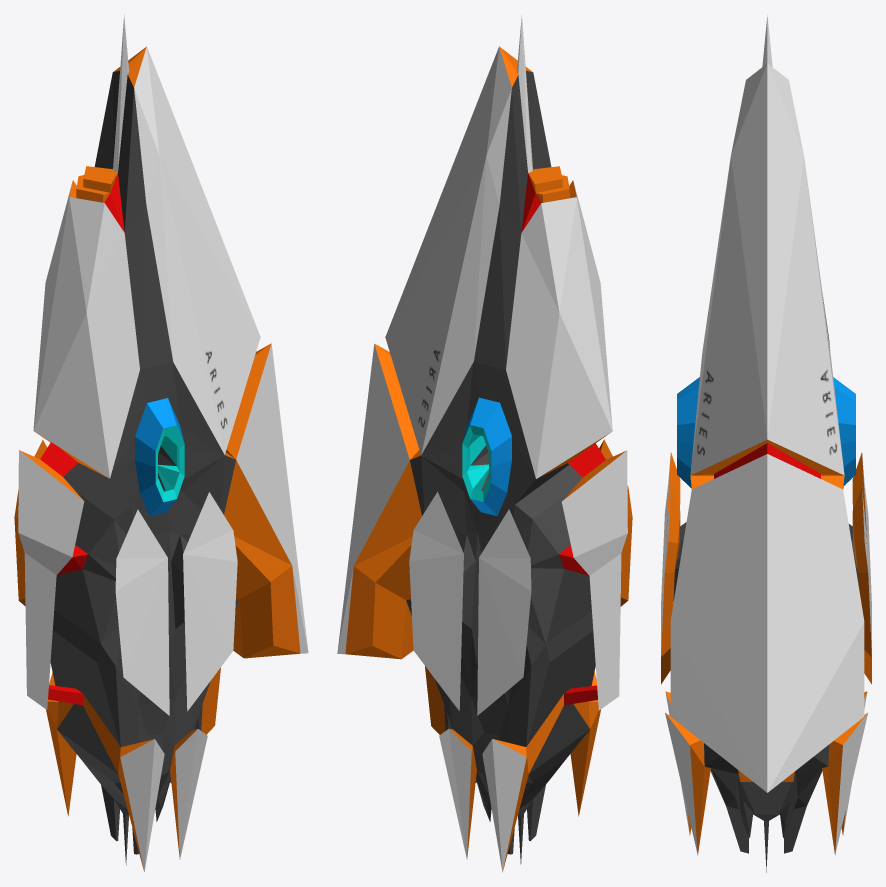
File: Station_ARIES.fbx
3 renders of one model, left to right at view 1: azimuth 30°, elevation 25°; view 2: azimuth 150°, elevation 25°; view 3: azimuth 270°, elevation 25°, orthographic.
Visible parts, largest first — view 1: AriesStation_LOD0; view 2: AriesStation_LOD0; view 3: AriesStation_LOD0.
Boxes of the visible parts, x1=… form: AriesStation_LOD0: x1=14, y1=14, x2=308, y2=871; AriesStation_LOD0: x1=337, y1=15, x2=632, y2=872; AriesStation_LOD0: x1=661, y1=14, x2=871, y2=872.
Size of what is drawn, in the model's own units: 258 by 724 by 161.
